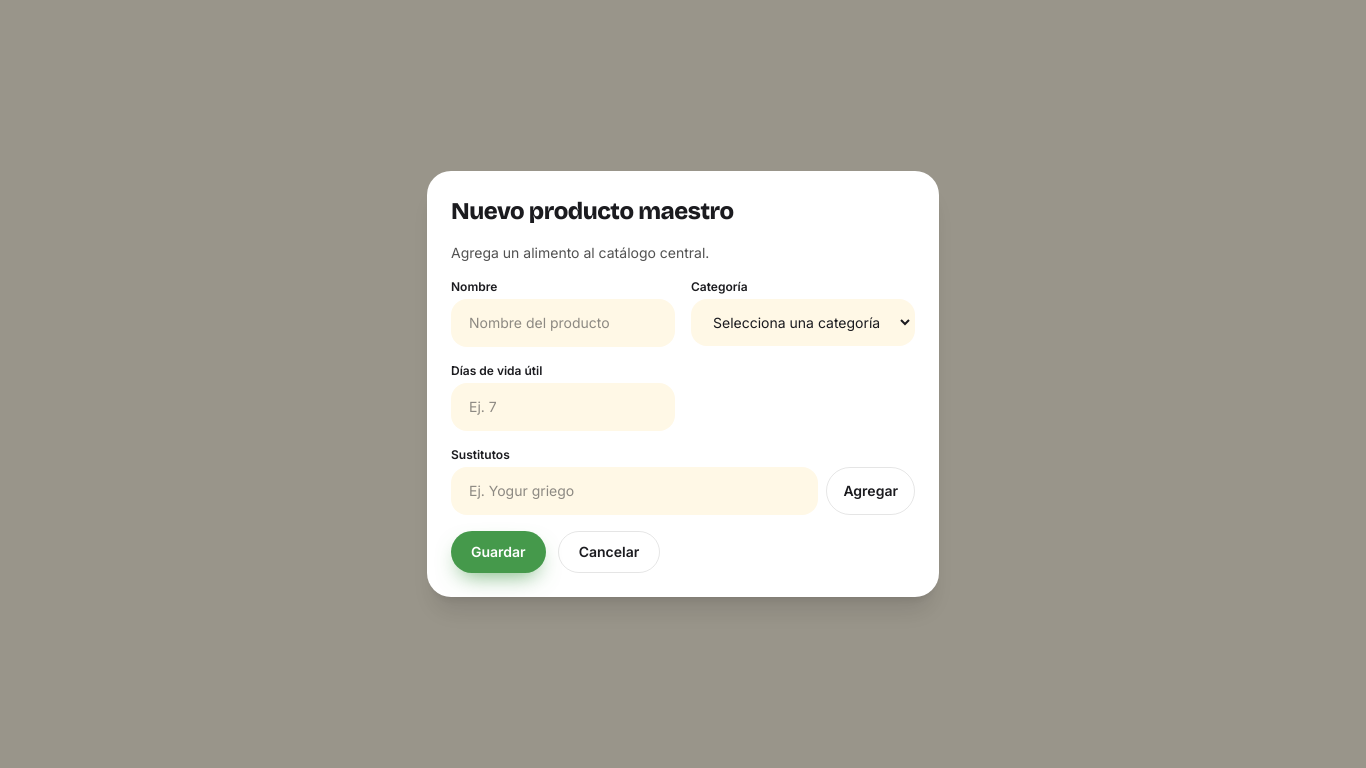
shows validation errors and does not post an empty form
Click the button "Guardar": (498, 552) [451,531,546,573]
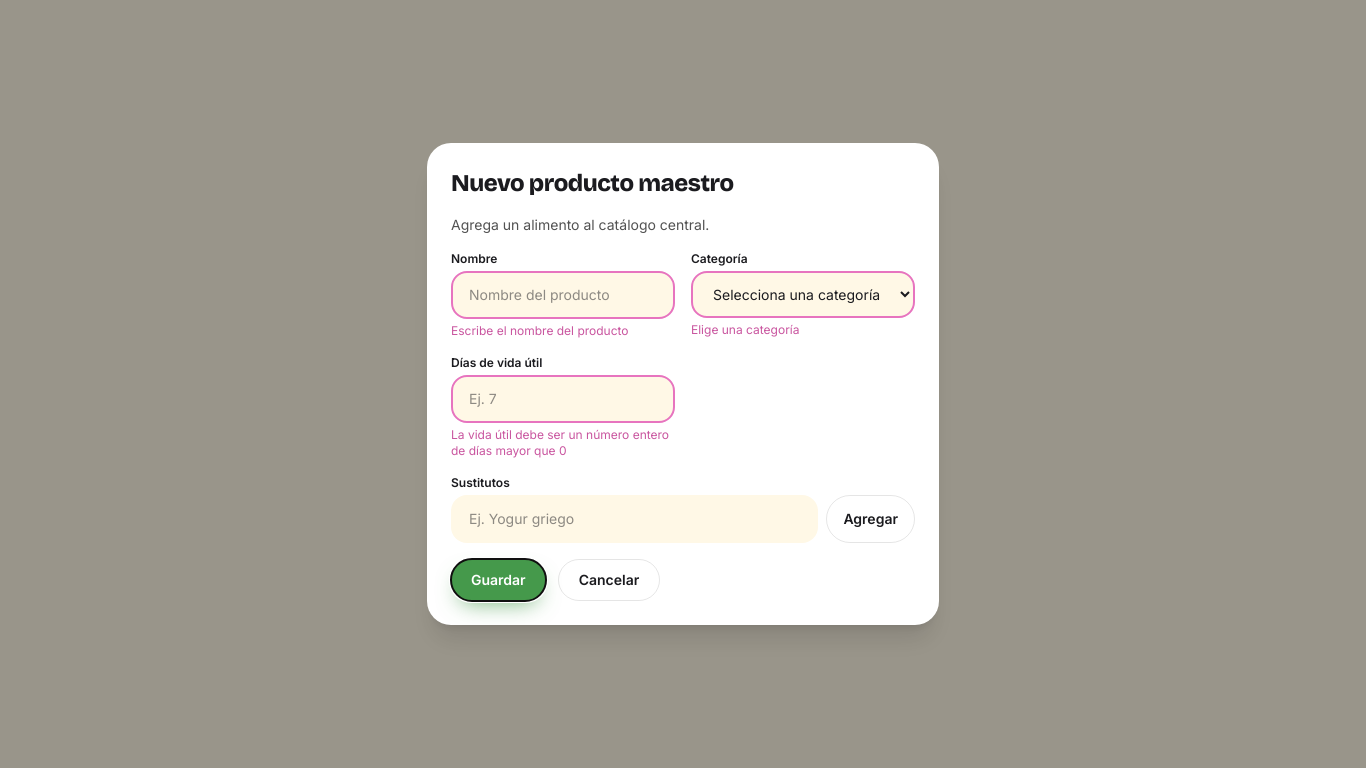
Result: the text "Escribe el nombre del producto" is shown at [451,323,629,338]
